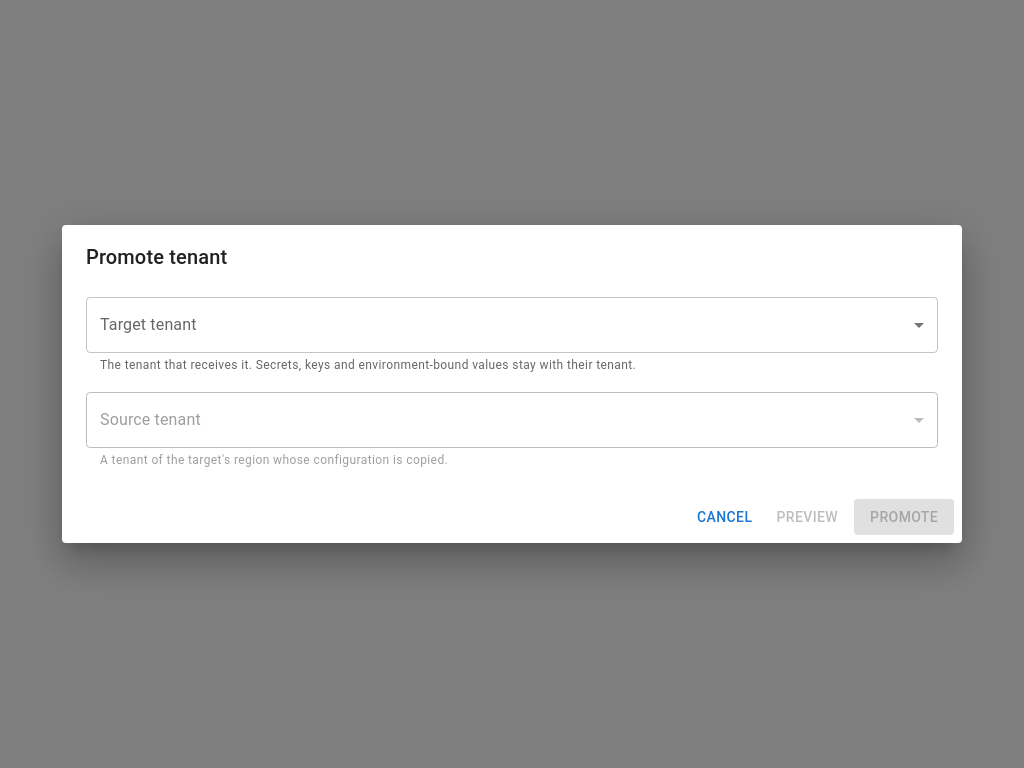
Test: TenantPromotionDialog › forgets a source that is not in the region of a newly chosen target
Replace the text in the field with test id "promotion-target" with "eu-1/staging". click: (512, 325)
box: [86,297,938,353]
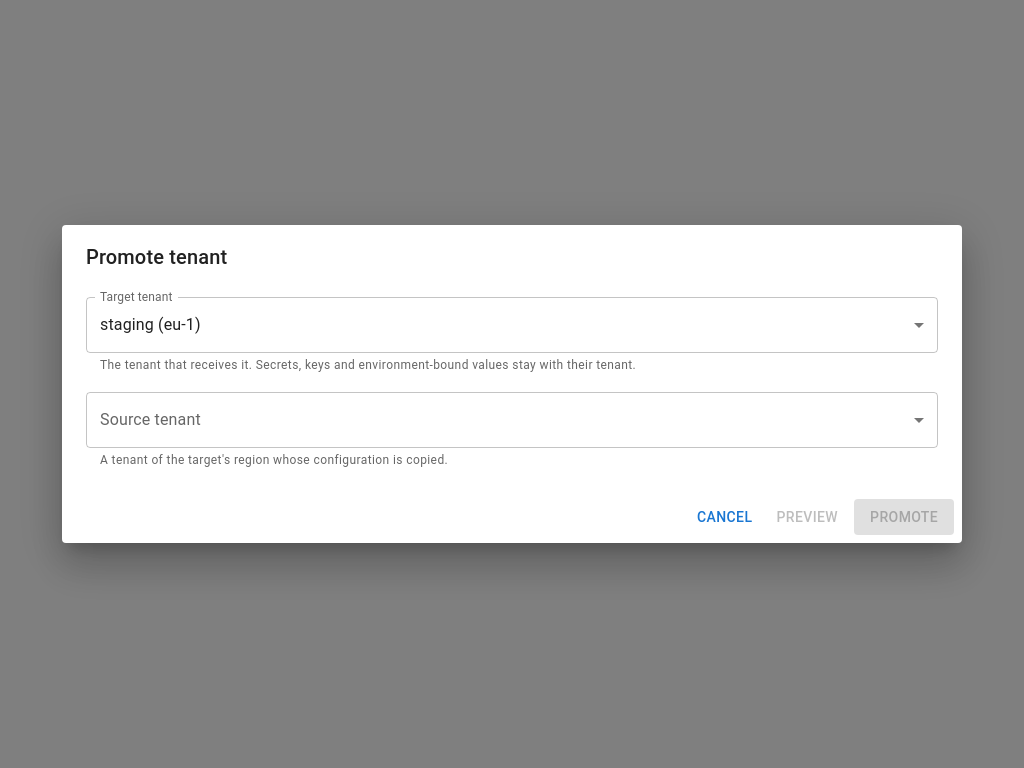
Replace the text in the field with test id "promotion-source" with "eu-1/dev". click: (512, 420)
box: [86,392,938,448]
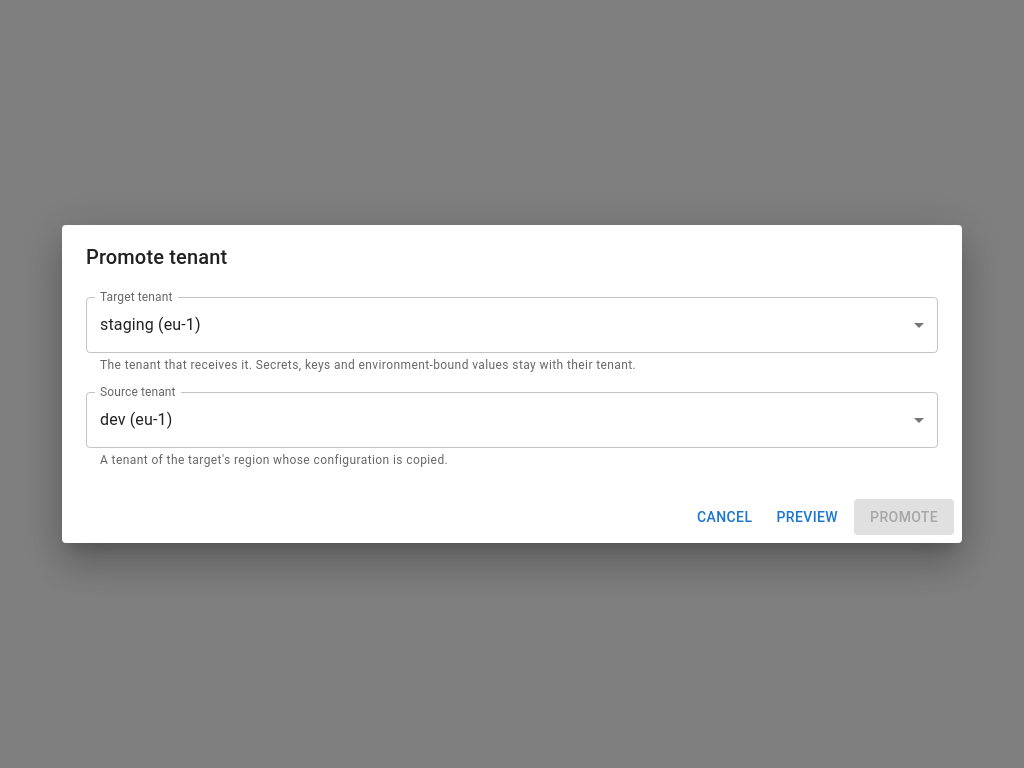
Replace the text in the field with test id "promotion-target" with "us-1/us-prod". click: (512, 325)
box: [86,297,938,353]
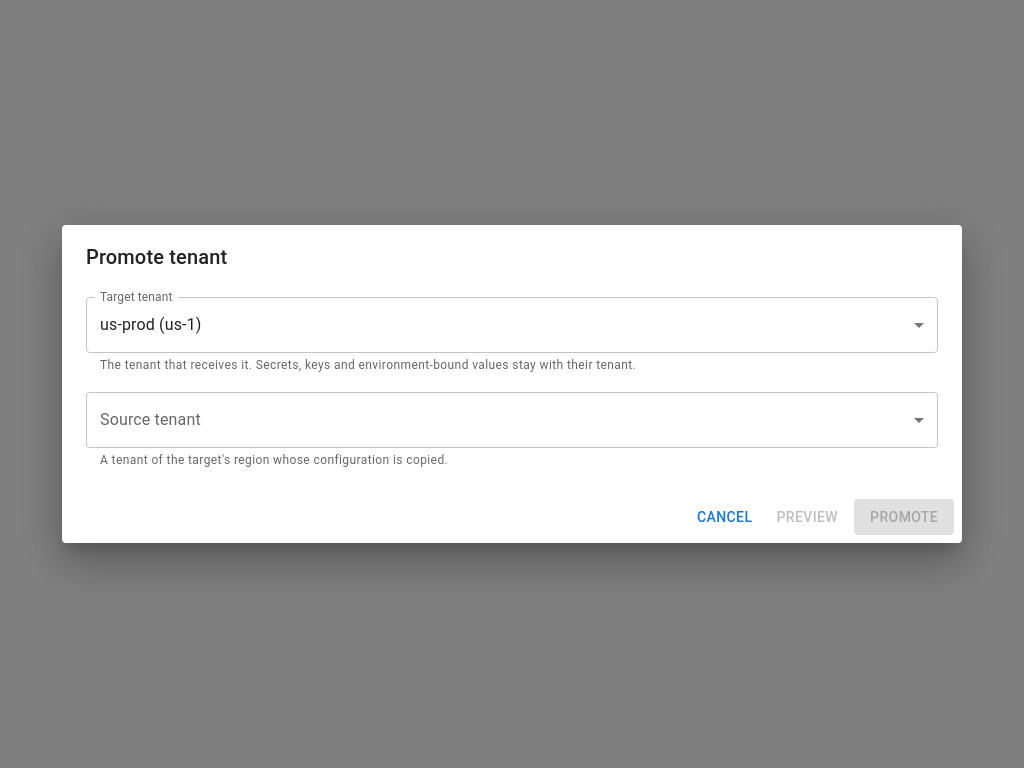
Expected: the element with test id "promotion-source" is empty, [86,392,938,448]
Expected: the button with test id "promotion-preview" is disabled, [768,499,846,535]
